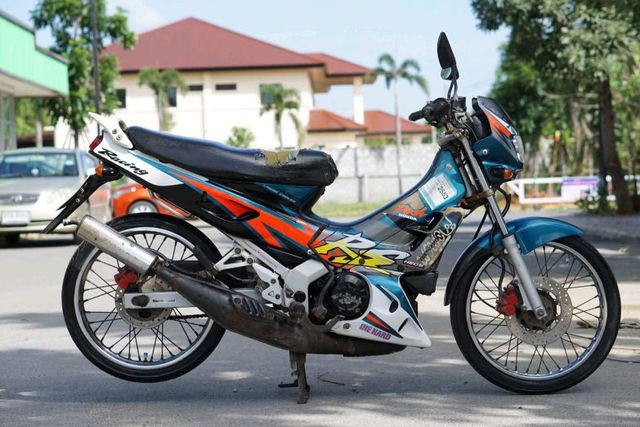motorcycle: (72, 91, 621, 396)
